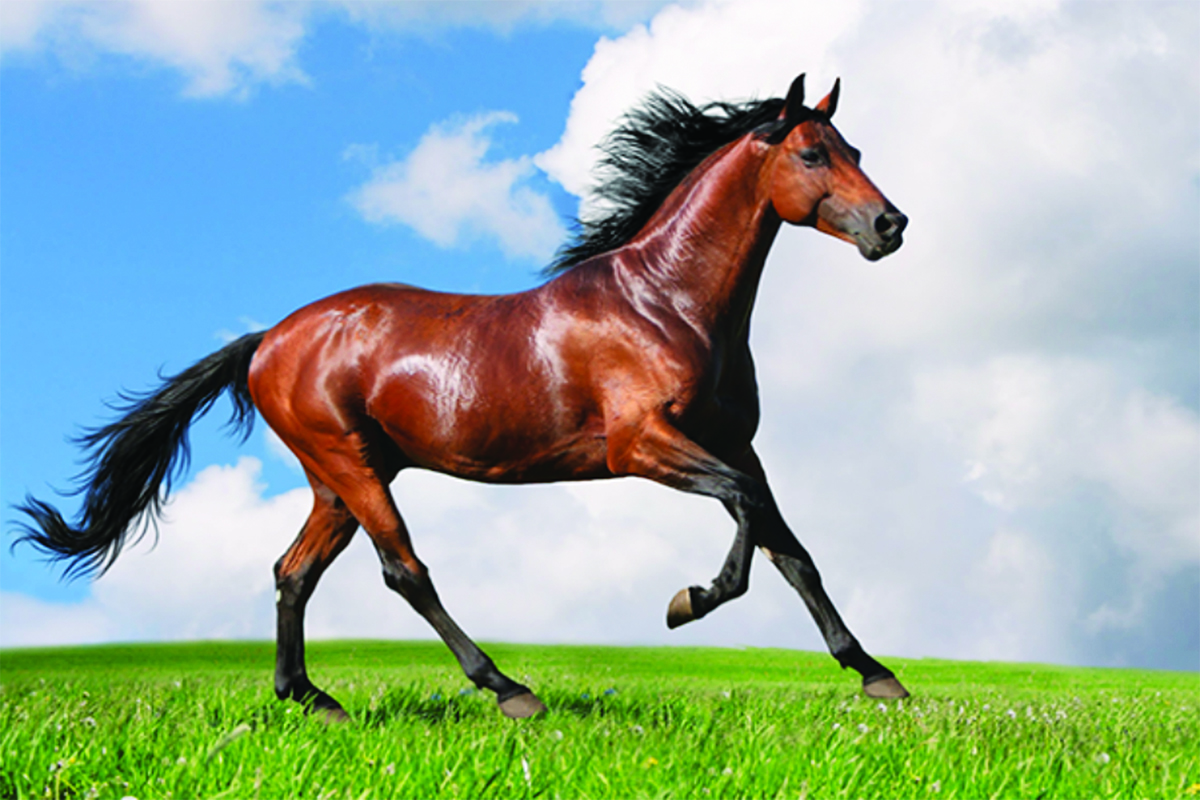horse: (20, 69, 919, 722)
